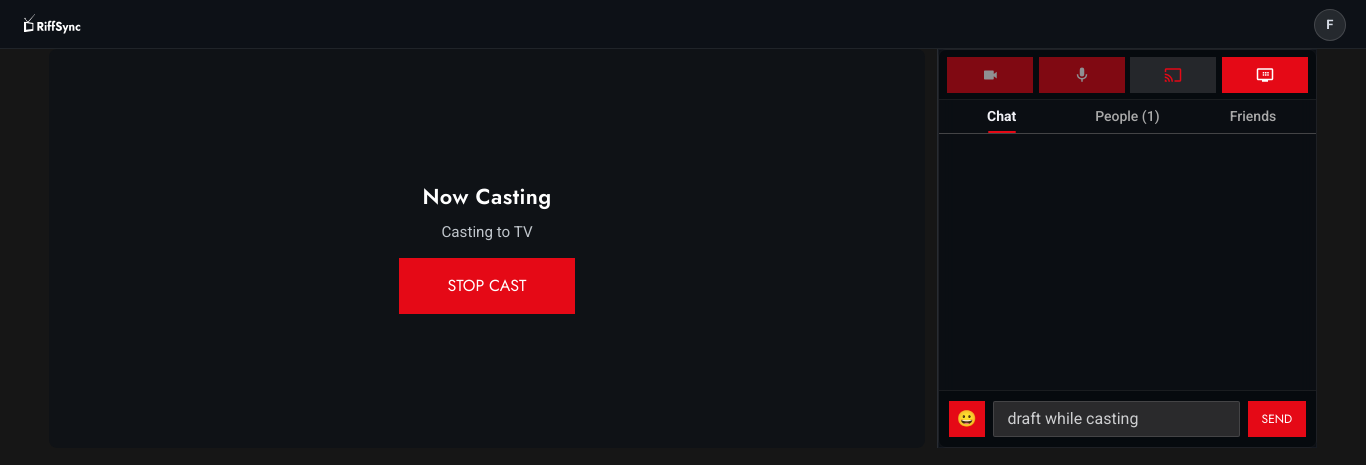
Scenario: RoomPage Cast active participation (#275) › retains compose draft across sidebar tab switches while Cast is active
The image size is (1366, 465).
Expected: the tab with class "riffsync-room-page__tab" showing "Chat" is shown, [939,100,1064,133]
Expected: the field with placeholder "Say something…" holds "draft while casting", [993,401,1240,437]
Click the tab with class "riffsync-room-page__tab" showing "People (1)" at {"x": 1127, "y": 116}, box [1064,100,1190,133]
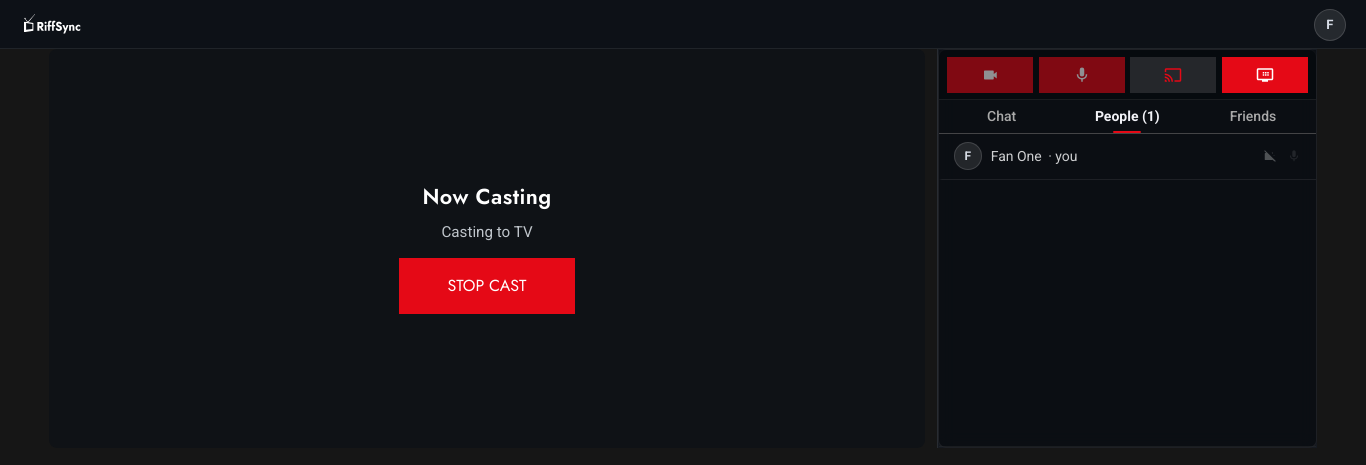
Click the tab with class "riffsync-room-page__tab" showing "Chat" at {"x": 1002, "y": 116}, box [939,100,1064,133]
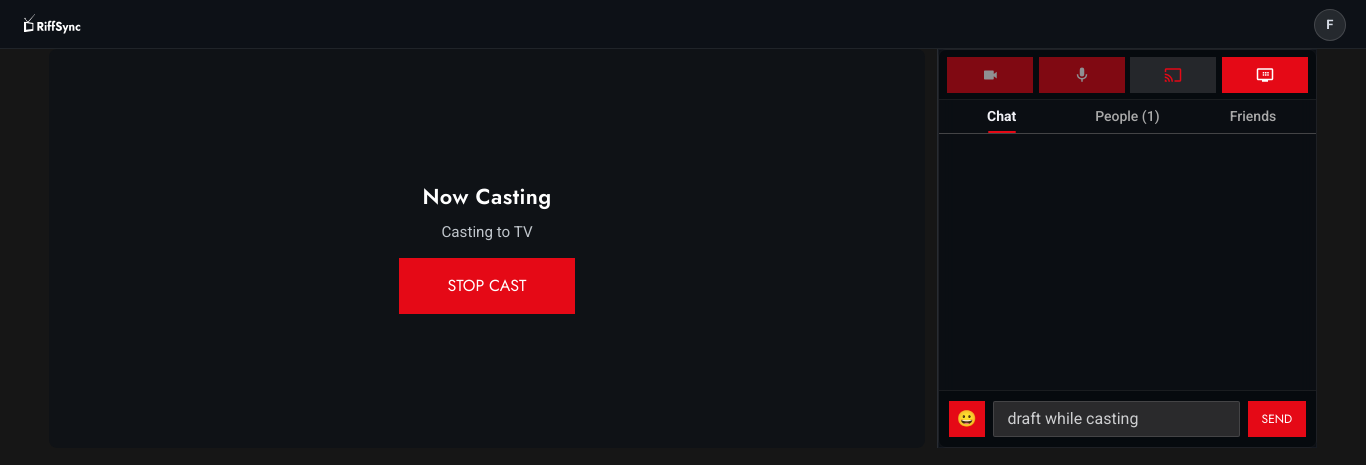
Expected: the field with placeholder "Say something…" holds "draft while casting", [993,401,1240,437]
